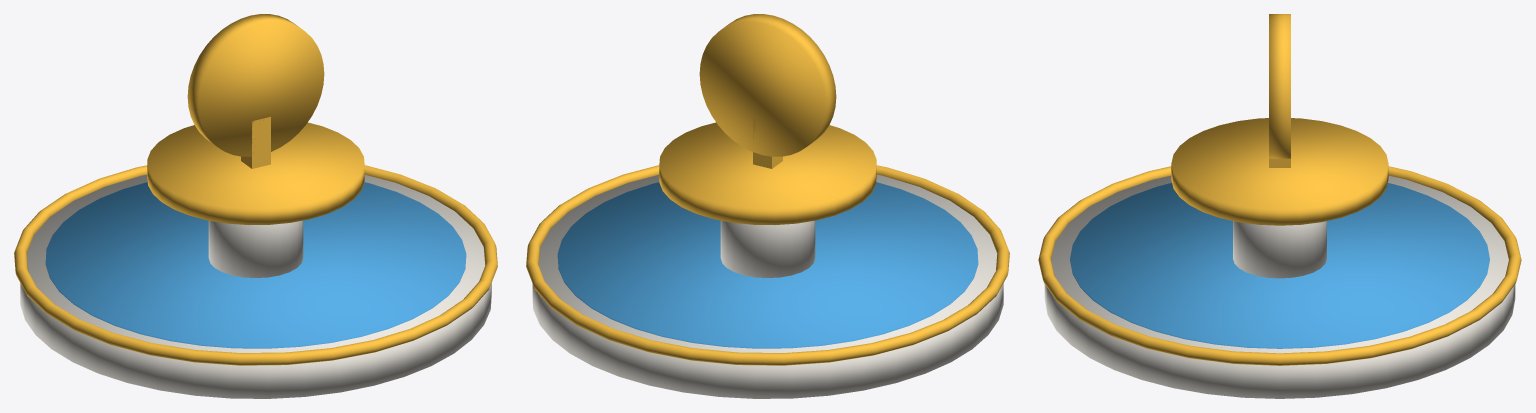
The model's file is Fountain.fbx.
3 renders of one model, left to right at view 1: azimuth 30°, elevation 25°; view 2: azimuth 150°, elevation 25°; view 3: azimuth 270°, elevation 25°, orthographic.
Visible parts, largest first — view 1: Water_Water, Marble_Basin, Gold_Bowl, Gold_Coin, Gold_Rim, Marble_Column, Gold_CoinStand; view 2: Water_Water, Marble_Basin, Gold_Bowl, Gold_Coin, Gold_Rim, Marble_Column; view 3: Water_Water, Marble_Basin, Gold_Bowl, Gold_Rim, Marble_Column, Gold_Coin.
Boxes of the visible parts, x1,y1,x2,y2 form: Water_Water: [45, 182, 466, 348]; Marble_Basin: [20, 174, 491, 398]; Gold_Bowl: [147, 122, 364, 224]; Gold_Coin: [187, 14, 324, 156]; Gold_Rim: [14, 165, 497, 365]; Marble_Column: [208, 220, 303, 277]; Gold_CoinStand: [241, 116, 270, 168]; Water_Water: [557, 182, 978, 348]; Marble_Basin: [532, 174, 1003, 398]; Gold_Bowl: [659, 122, 876, 224]; Gold_Coin: [699, 14, 836, 156]; Gold_Rim: [526, 165, 1009, 365]; Marble_Column: [720, 220, 815, 277]; Water_Water: [1070, 183, 1489, 348]; Marble_Basin: [1044, 175, 1515, 398]; Gold_Bowl: [1171, 118, 1388, 225]; Gold_Rim: [1038, 166, 1521, 365]; Marble_Column: [1233, 221, 1326, 278]; Gold_Coin: [1269, 14, 1290, 158].
Size of the model in its own units: 26.7 by 17 by 26.7.
